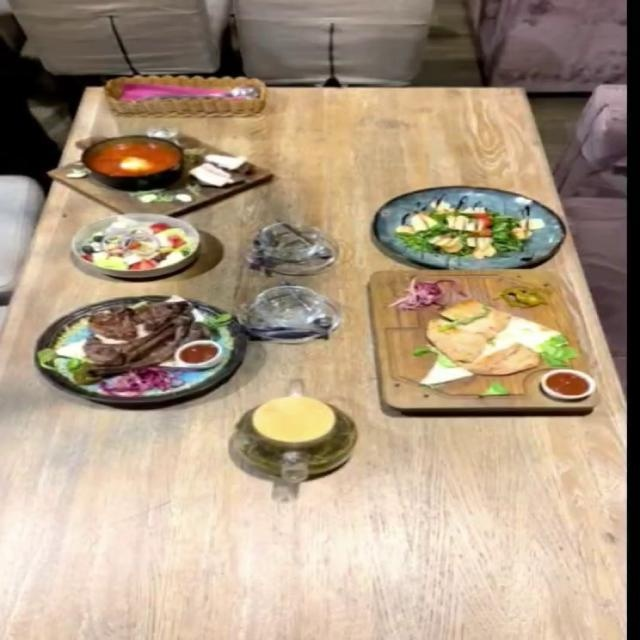meat: (356, 269, 607, 419), (34, 294, 250, 404)
salad: (376, 185, 568, 268), (70, 211, 202, 276)
soup: (48, 130, 276, 218)
tea: (231, 392, 361, 480)
